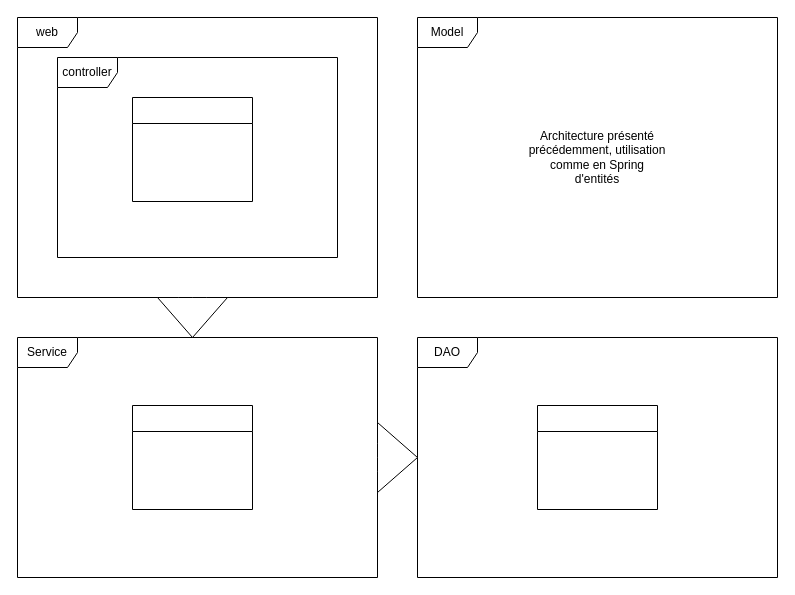
Image size: 795x595. Some labels were removed from this diagram. The centre of each missing label's shape, as x and y in pixels:
"ArticleController" belongs at (x=192, y=149).
"ArticleRepository" belongs at (x=597, y=457).
"ArticleService" belongs at (x=192, y=457).
